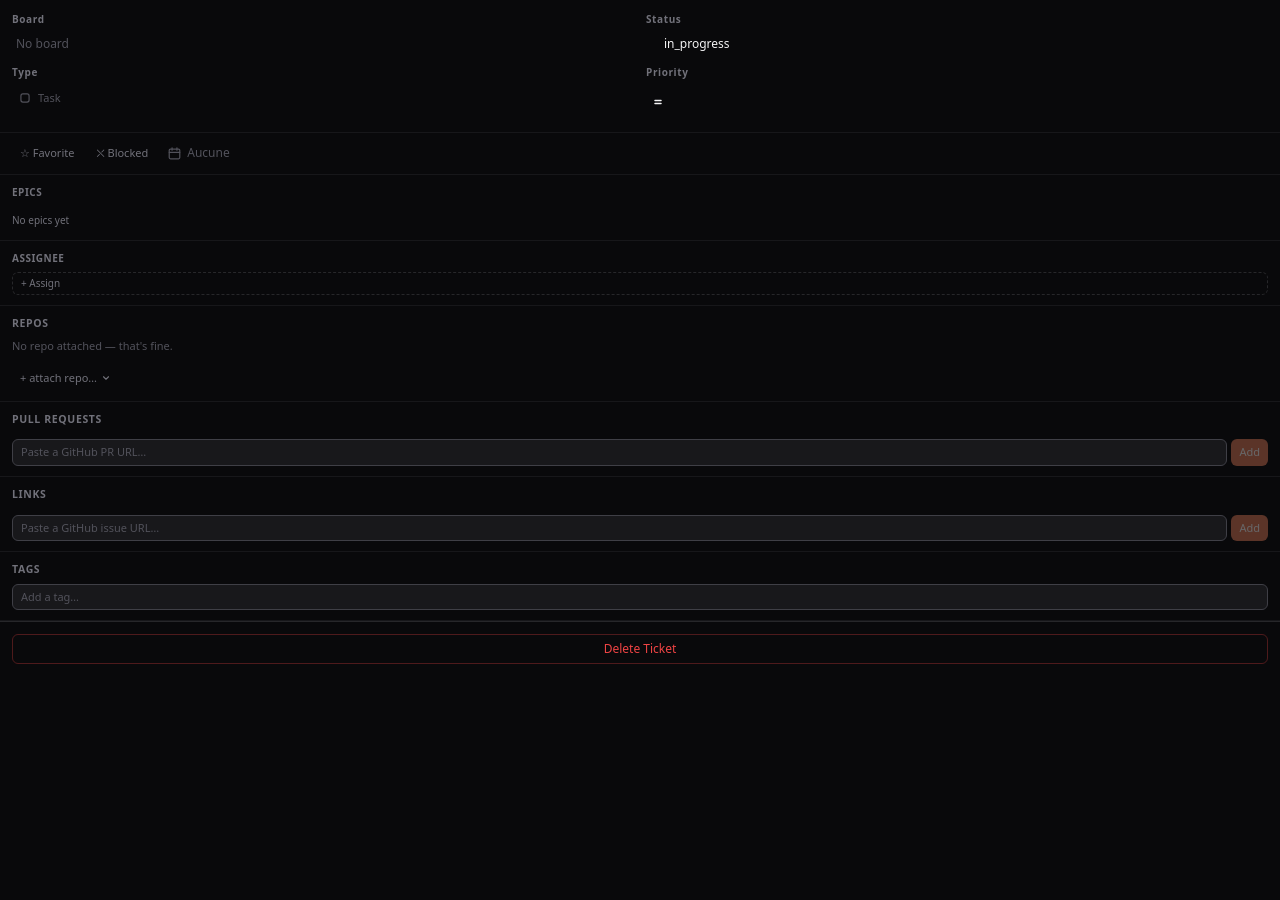
Scenario: ContextPanel — attaching repos › searches repos in a multi-select, like the new-task card
Click the button "+ attach repo…".
click(59, 378)  # box x1=12 y1=366 x2=1268 y2=391
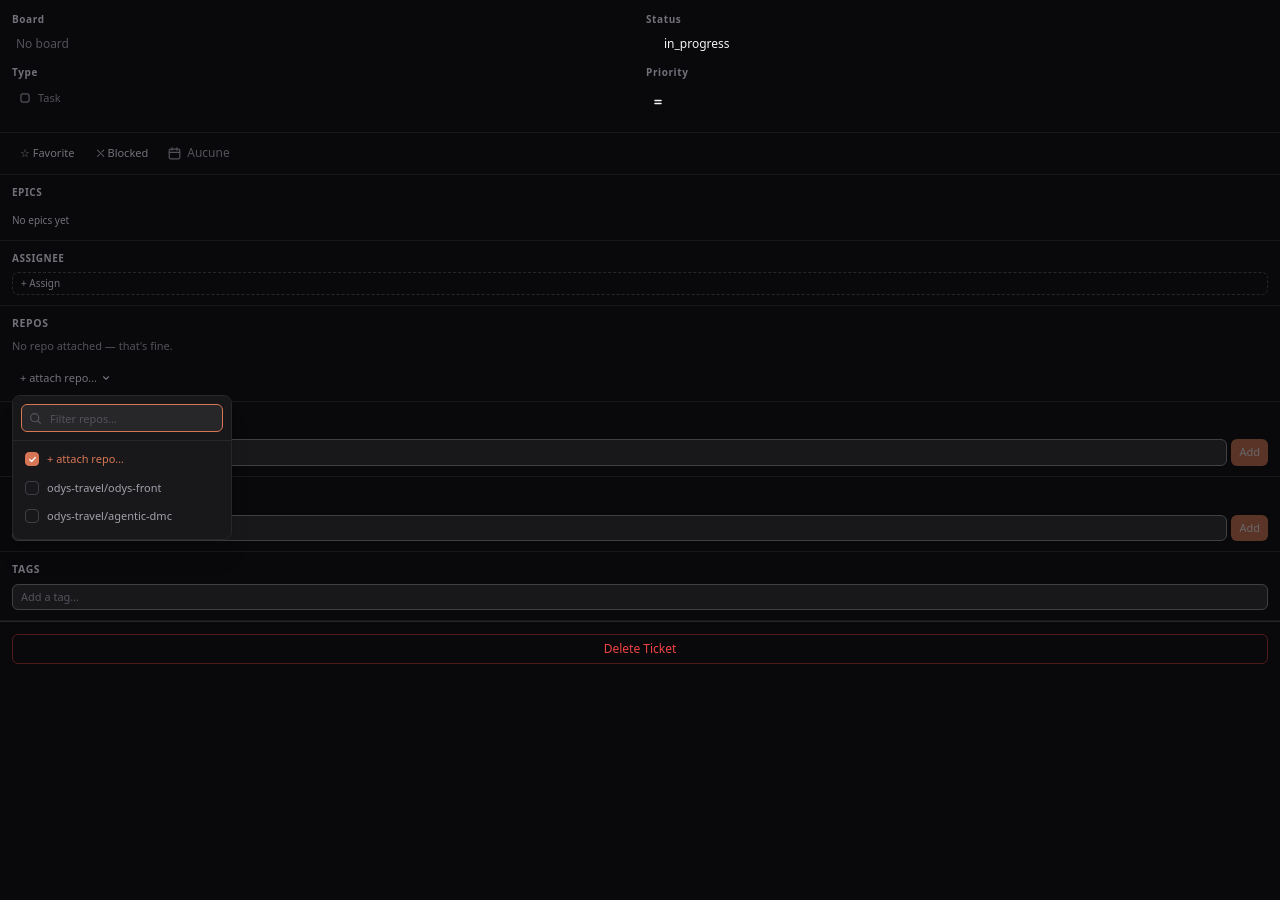
Type "front" into the field with placeholder "Filter repos…".
click(122, 418); type("front")  # box x1=21 y1=404 x2=223 y2=432
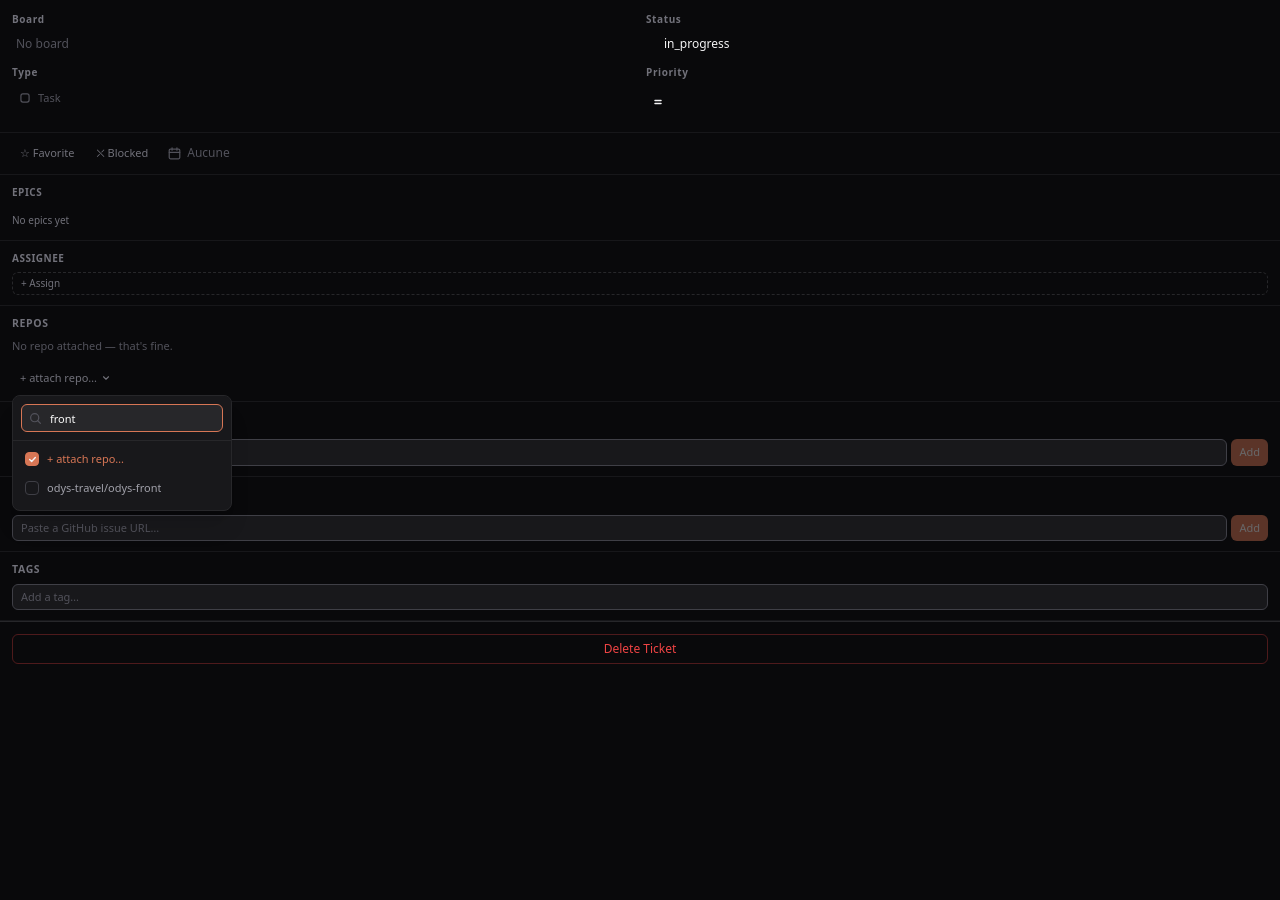
Result: the text "odys-travel/odys-front" is shown at x1=47 y1=480 x2=161 y2=496
Result: the button "odys-travel/agentic-dmc" is gone
